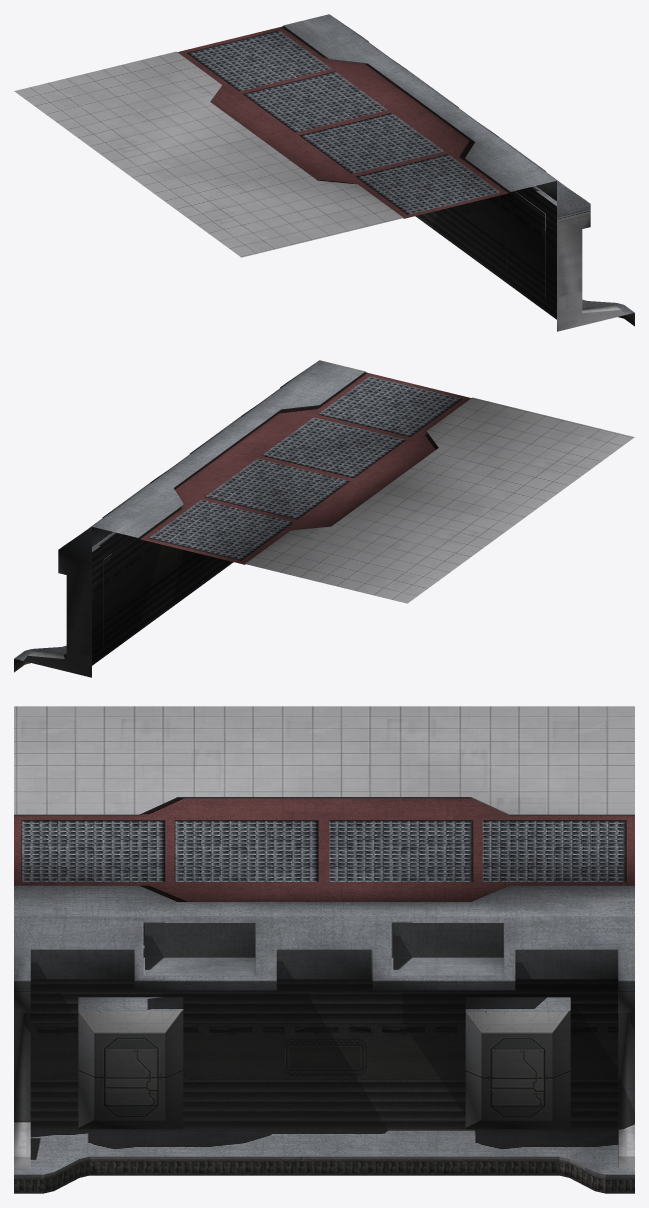
File: ML1_Basic_L.FBX
3 renders of one model, top to bottom at view 1: azimuth 30°, elevation 25°; view 2: azimuth 150°, elevation 25°; view 3: azimuth 270°, elevation 25°, orthographic. The views are drawn at different scales.
Parts seen in each view (by area): view 1: Mesh; view 2: Mesh; view 3: Mesh.
Part boxes in pixels (x1,y1,x2,y2): Mesh: (14, 14, 634, 331); Mesh: (14, 360, 634, 677); Mesh: (14, 706, 634, 1193).
Size of the model in its own units: 9.98 by 4 by 10.
1 material, 1 textured.
